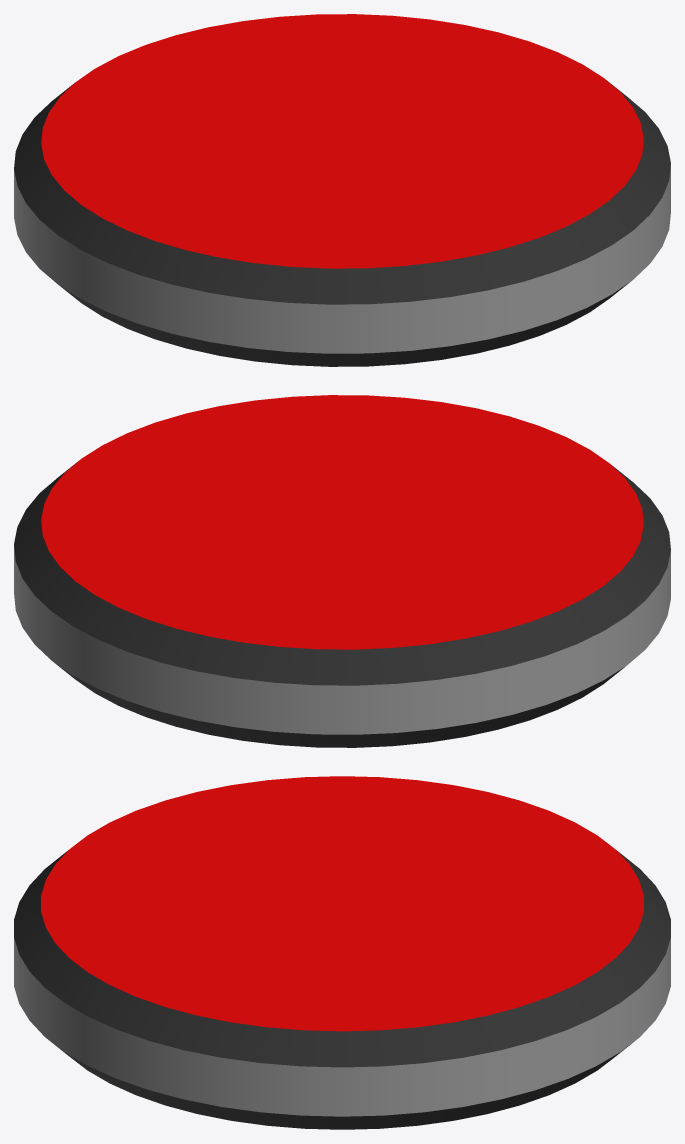
File: Piece_v1.fbx
3 renders of one model, top to bottom at view 1: azimuth 30°, elevation 25°; view 2: azimuth 150°, elevation 25°; view 3: azimuth 270°, elevation 25°, orthographic.
Visible parts, largest first — view 1: Piece_v1; view 2: Piece_v1; view 3: Piece_v1.
Boxes of the visible parts, x1,y1,x2,y2 form: Piece_v1: (14, 14, 670, 366); Piece_v1: (14, 395, 670, 747); Piece_v1: (14, 776, 670, 1129).
Size of the model in its own units: 200 by 33 by 200.
